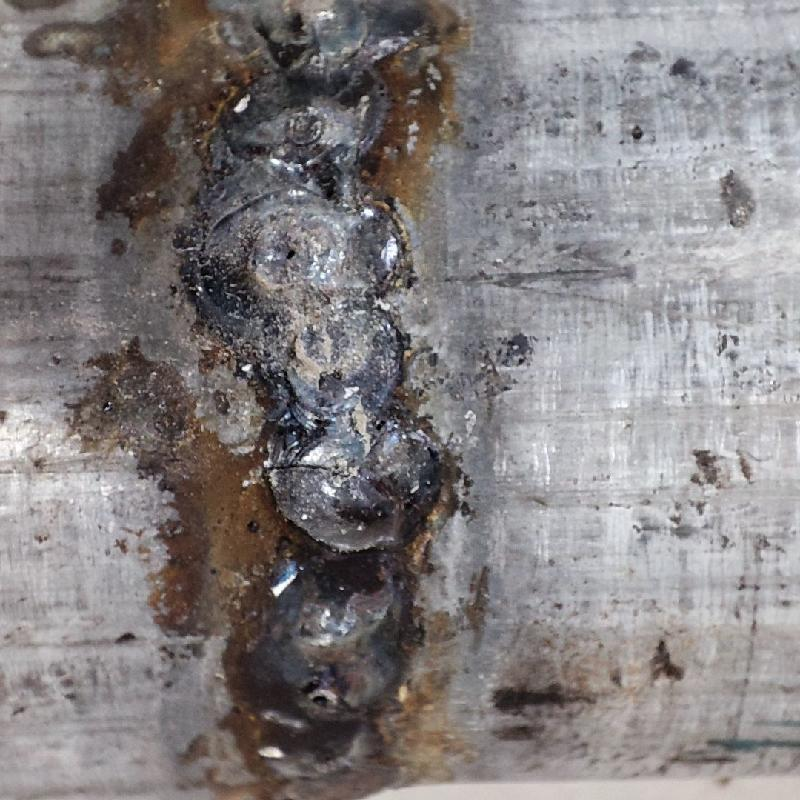Not_fully_soldered: (188, 0, 401, 543)
Surface_pores: (258, 219, 314, 282), (270, 8, 316, 56), (308, 680, 333, 719)
wrong_size: (236, 543, 414, 799)
